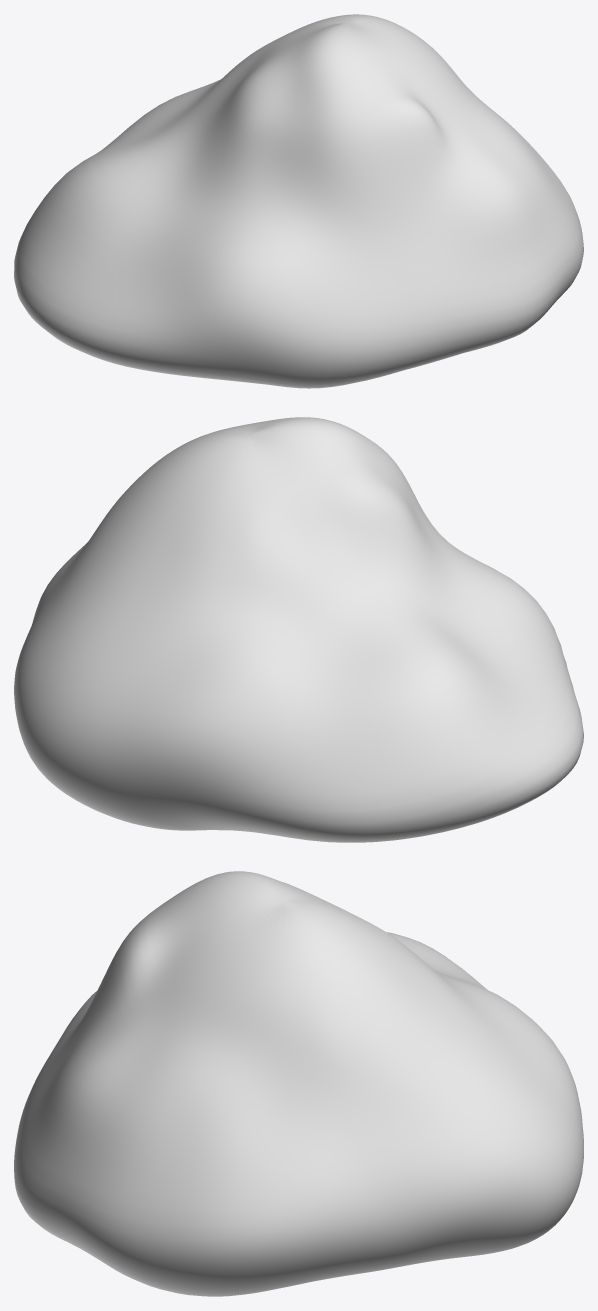
Rendered from monticulo.fbx.
3 renders of one model, top to bottom at view 1: azimuth 30°, elevation 25°; view 2: azimuth 150°, elevation 25°; view 3: azimuth 270°, elevation 25°, orthographic. The views are drawn at different scales.
Parts seen in each view (by area): view 1: Sphere; view 2: Sphere; view 3: Sphere.
Boxes of the visible parts, x1,y1,x2,y2 form: Sphere: (14,14,583,388); Sphere: (14,417,583,842); Sphere: (14,871,583,1296).
Size of the model in its own units: 380 by 219 by 333.
1 material, 1 textured.
